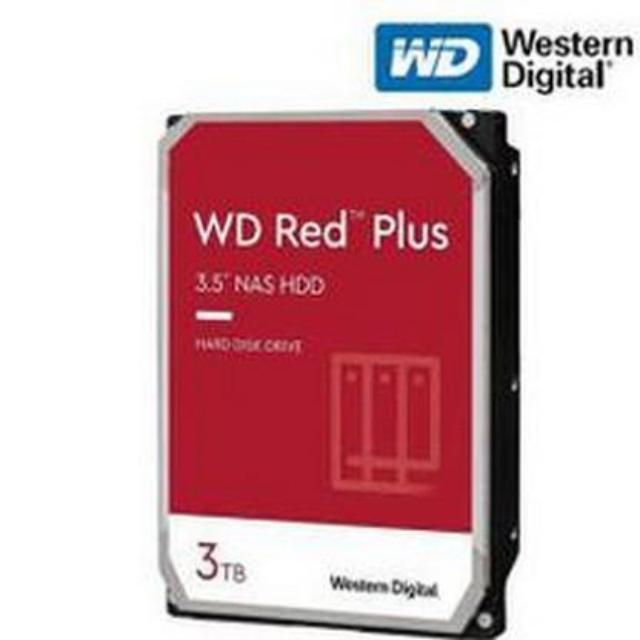DISK: (157, 110, 531, 638)
